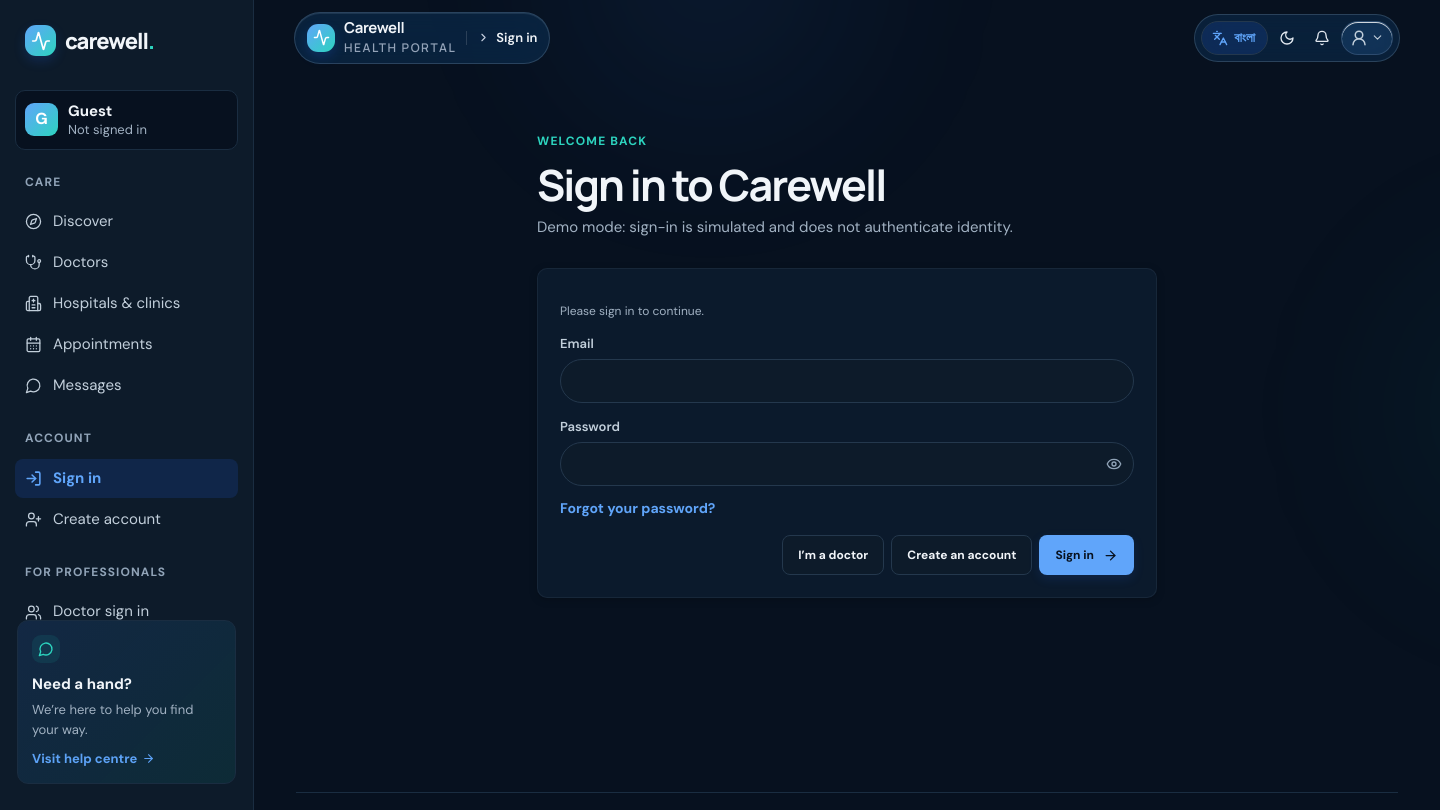
Test case: account gate › returns to the page the guest was heading to after signing in
The image size is (1440, 810).
Type "someone@example.test" into the field labelled "Email".
click(847, 381); type("someone@example.test")  # box [560,359,1134,403]
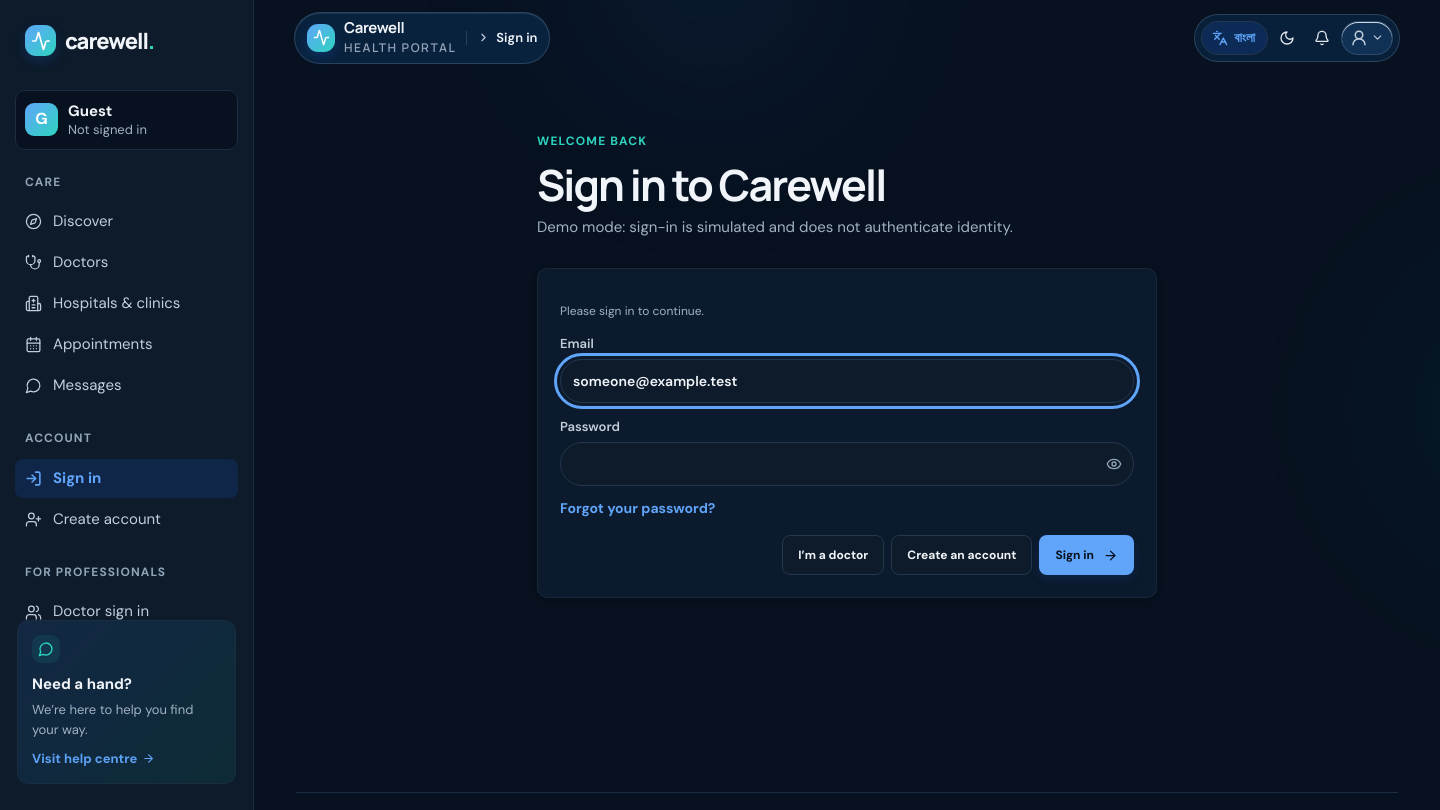
Type "Correct-horse-1!" into the password field labelled "Password".
click(847, 464); type("Correct-horse-1!")  # box [560,442,1134,486]
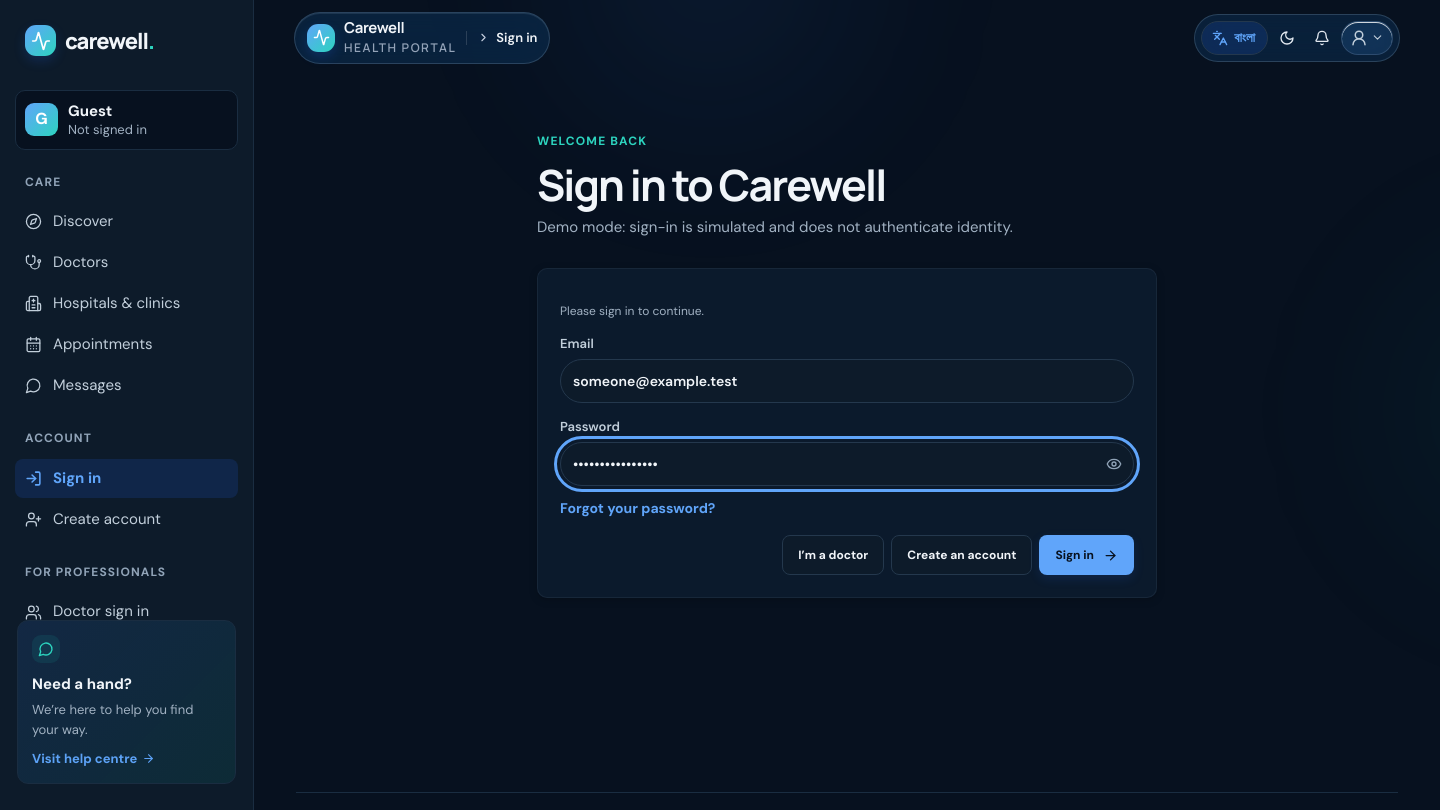
Click the button "Sign in".
click(1087, 555)  # box [1039,535,1134,575]
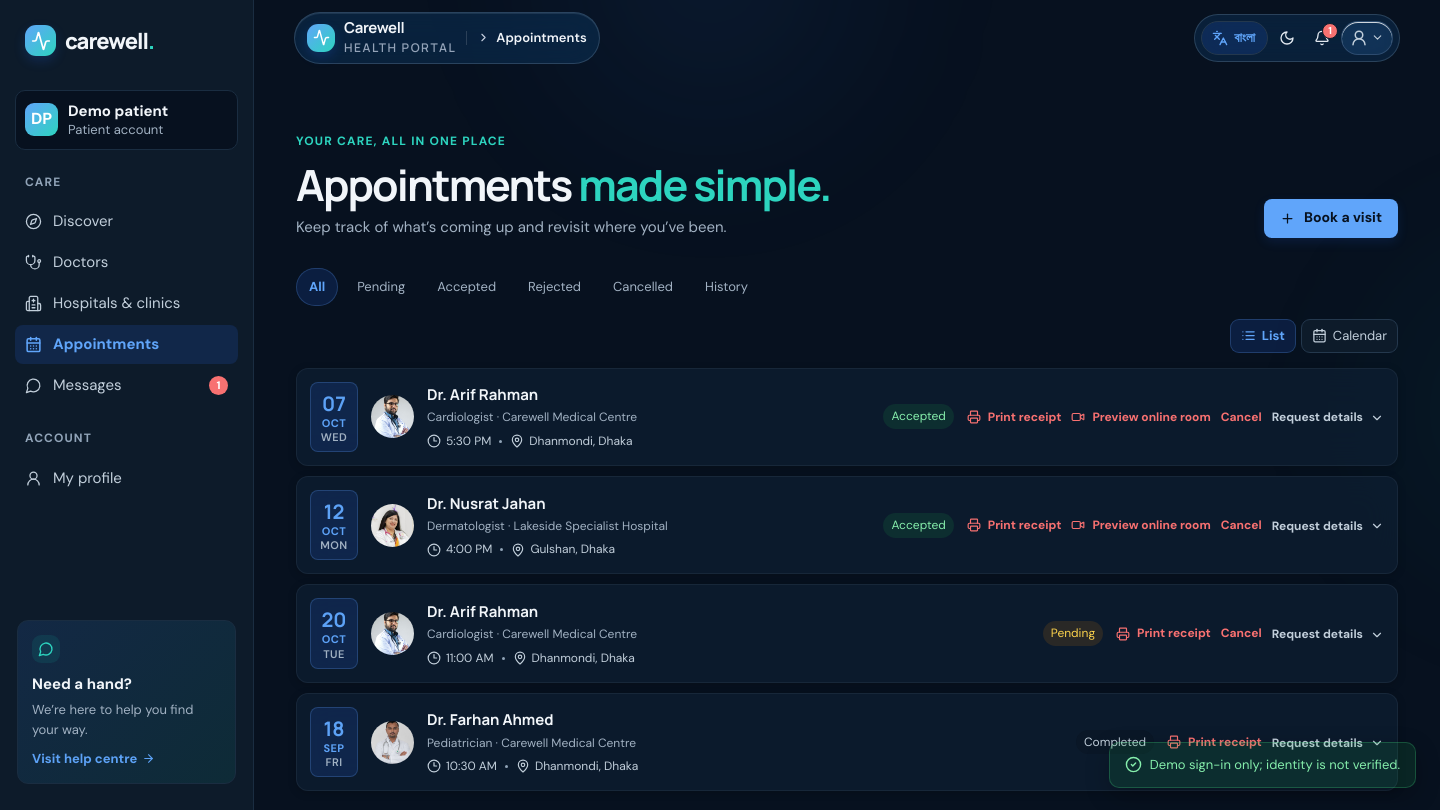
Now the heading "Appointments made simple." is shown, box [296,160,830,209]
